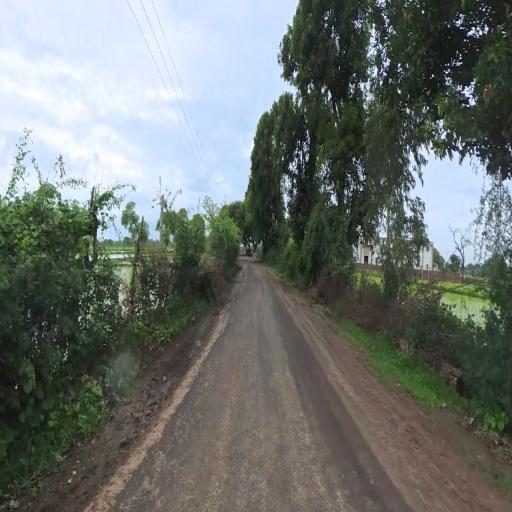edge_damage: (95, 316, 239, 506)
